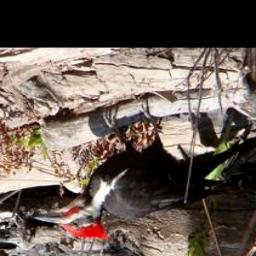Woodpecker: (30, 99, 256, 242)
